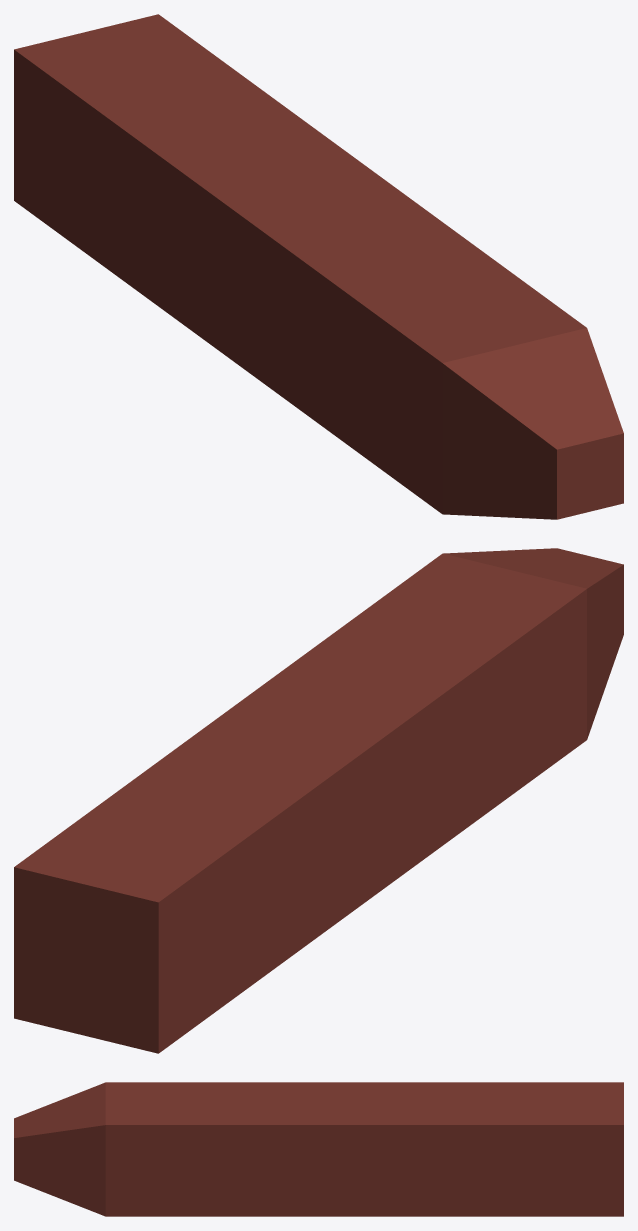
The model's file is stampwax01.gltf.
3 views of the same model, one above another, from view 1: azimuth 30°, elevation 25°; view 2: azimuth 150°, elevation 25°; view 3: azimuth 270°, elevation 25° (orthographic). The views are drawn at different scales.
Visible parts, largest first — view 1: Cylinder; view 2: Cylinder; view 3: Cylinder.
Part boxes in pixels (box(x1,y1,x2,y2)): Cylinder: box(14, 14, 623, 519); Cylinder: box(14, 548, 623, 1053); Cylinder: box(14, 1082, 623, 1216).
Bounding box in the file's own units: 0.0122 × 0.0122 × 0.074.
1 material, 1 textured.
